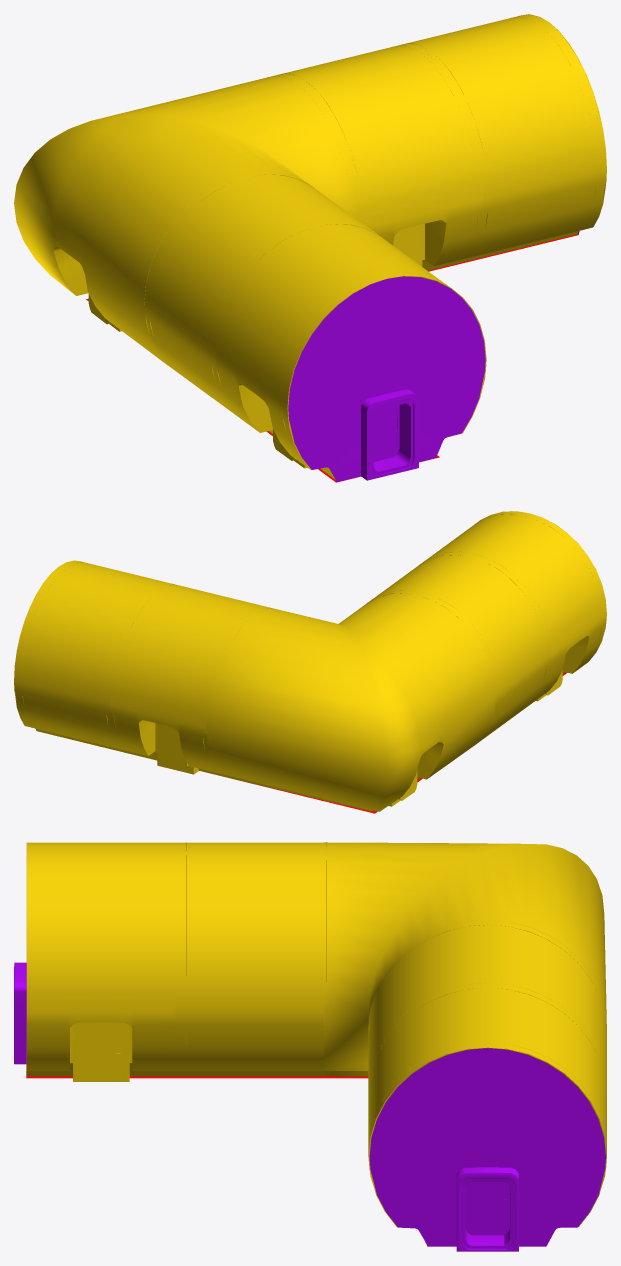
Rendered from Hallways.fbx.
3 views of the same model, one above another, from view 1: azimuth 30°, elevation 25°; view 2: azimuth 150°, elevation 25°; view 3: azimuth 270°, elevation 25° (orthographic). The views are drawn at different scales.
Visible parts, largest first — view 1: Hallway_Corner, Hallway_CapWall_WithDoor001, Hallway_Basic, Hallway_Basic_WithDoors, Hallway_Basic_WithDoors001, Hallway_Basic001, Door009, Hallway_Border005; view 2: Hallway_Corner, Hallway_Basic_WithDoors, Hallway_Basic, Hallway_Basic_WithDoors001, Hallway_Basic001; view 3: Hallway_CapWall_WithDoor, Hallway_Basic_WithDoors001, Hallway_Basic001, Hallway_Corner, Hallway_Basic_WithDoors, Hallway_Basic, Door, Hallway_CapWall_WithDoor001, Object013, Hallway_Border006.
Boxes of the visible parts, x1,y1,x2,y2 form: Hallway_Corner: (14, 75, 358, 365); Hallway_CapWall_WithDoor001: (288, 276, 485, 482); Hallway_Basic: (398, 14, 606, 264); Hallway_Basic_WithDoors: (274, 44, 483, 270); Hallway_Basic_WithDoors001: (215, 223, 486, 479); Hallway_Basic001: (144, 171, 377, 416); Door009: (373, 405, 399, 461); Hallway_Border005: (283, 272, 486, 469); Hallway_Corner: (206, 592, 495, 811); Hallway_Basic_WithDoors: (109, 584, 270, 777); Hallway_Basic: (14, 560, 174, 754); Hallway_Basic_WithDoors001: (425, 511, 606, 701); Hallway_Basic001: (370, 552, 551, 742); Hallway_CapWall_WithDoor: (369, 1048, 605, 1251); Hallway_Basic_WithDoors001: (27, 842, 175, 1081); Hallway_Basic001: (175, 842, 323, 1076); Hallway_Corner: (323, 842, 606, 1076); Hallway_Basic_WithDoors: (368, 922, 606, 1093); Hallway_Basic: (368, 985, 606, 1227); Door: (465, 1181, 509, 1235); Hallway_CapWall_WithDoor001: (14, 962, 26, 1064); Object013: (26, 1064, 427, 1246); Hallway_Border006: (368, 1043, 606, 1226).
Bounding box in the file's own units: 18.91 × 7 × 18.91.
